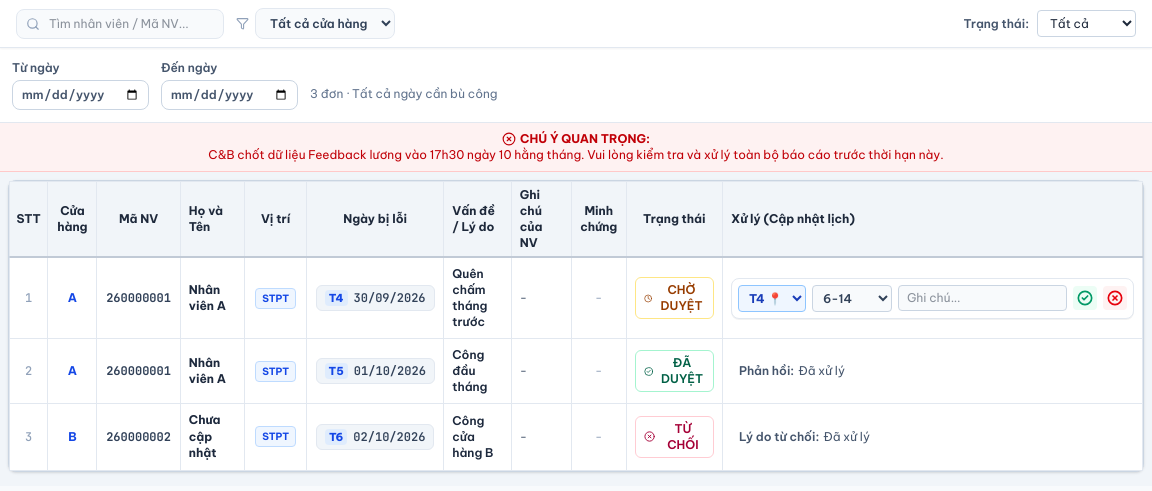
Test: keeps multi-store SM filters within assigned stores, including the all-stores option
Select "B" in the dropdown named "Cửa hàng": (325, 24) x1=255 y1=8 x2=395 y2=39
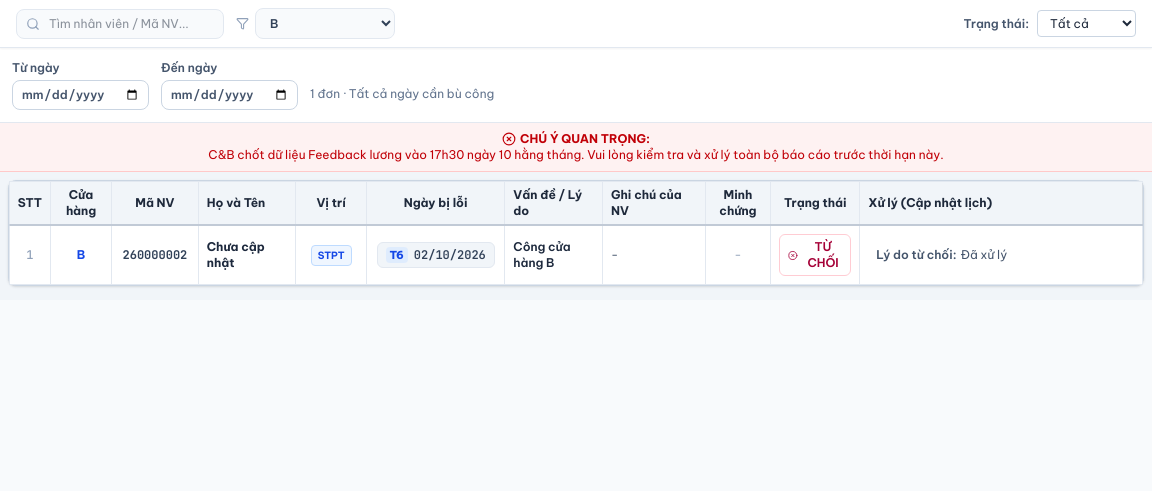
expect the text "Công cửa hàng B" is shown: met, box x1=513 y1=239 x2=571 y2=270
expect the text "Quên chấm tháng trước" is gone: met
